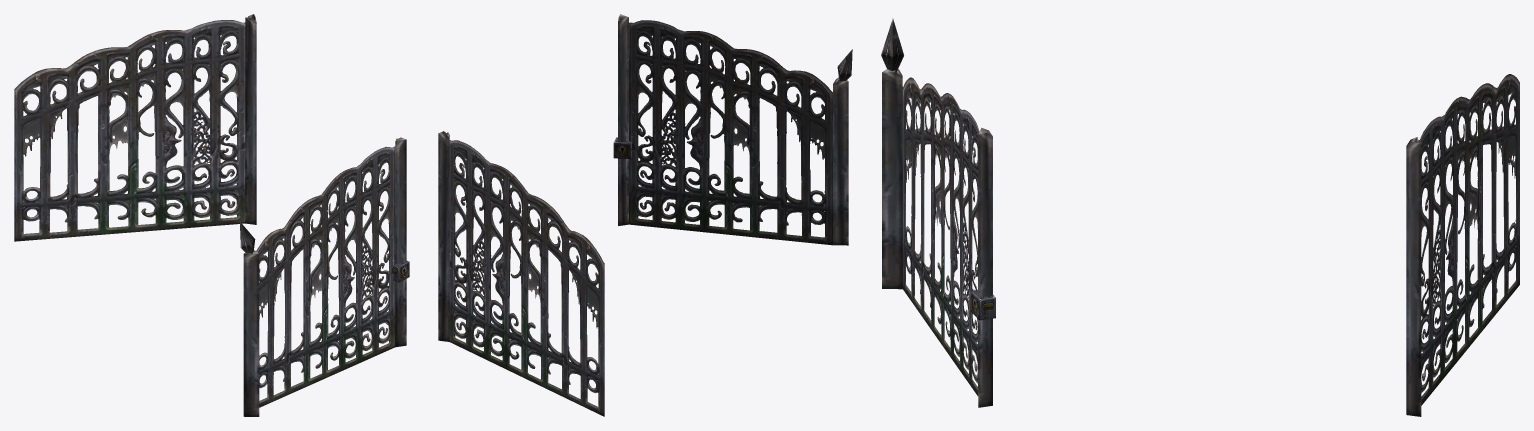
Rendered from duskwoodtallcemetarygate.obj.
3 renders of one model, left to right at view 1: azimuth 30°, elevation 25°; view 2: azimuth 150°, elevation 25°; view 3: azimuth 270°, elevation 25°, orthographic. The views are drawn at different scales.
Visible parts, largest first — view 1: DUSKWOODTALLCEMETARYGATE2; view 2: DUSKWOODTALLCEMETARYGATE2; view 3: DUSKWOODTALLCEMETARYGATE2, DUSKWOODTALLCEMETARYGATE0, DUSKWOODTALLCEMETARYGATE1.
Boxes of the visible parts, box(x1,y1,x2,y2) form: DUSKWOODTALLCEMETARYGATE2: box(14, 14, 406, 416); DUSKWOODTALLCEMETARYGATE2: box(438, 14, 848, 416); DUSKWOODTALLCEMETARYGATE2: box(882, 69, 1519, 416); DUSKWOODTALLCEMETARYGATE0: box(881, 18, 903, 72); DUSKWOODTALLCEMETARYGATE1: box(970, 290, 995, 320).
Bounding box in the file's own units: 5.23 × 4.84 × 10.24.
Materials: 3 (3 with a texture image).
